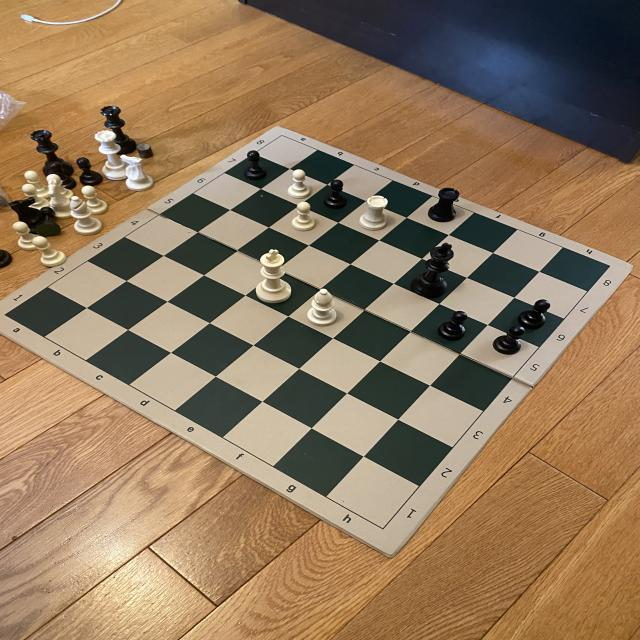Chessboard-Corners: (374, 521, 392, 535), (277, 131, 295, 142), (604, 262, 619, 272), (0, 310, 14, 320)
